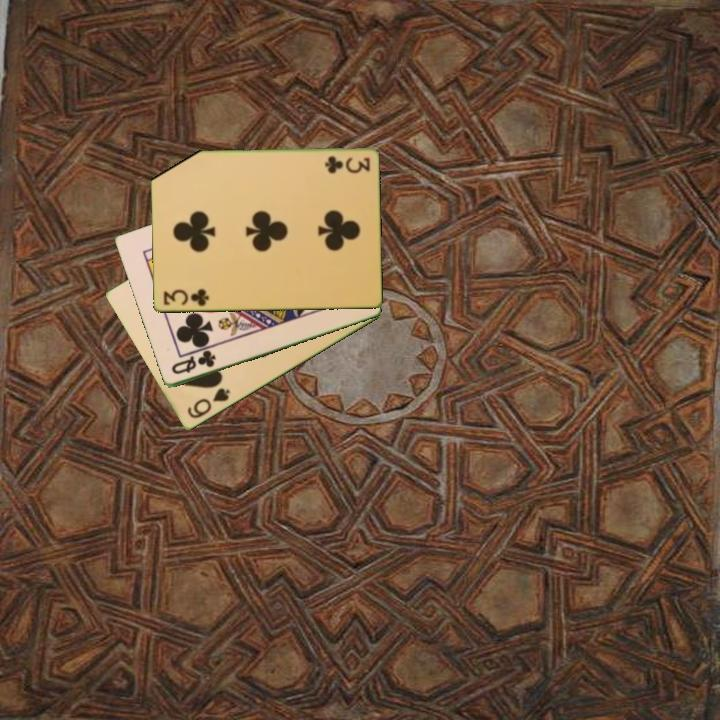3c: (160, 286, 211, 309), (321, 153, 372, 174)
6s: (183, 384, 233, 422)
Qc: (168, 347, 219, 378)
